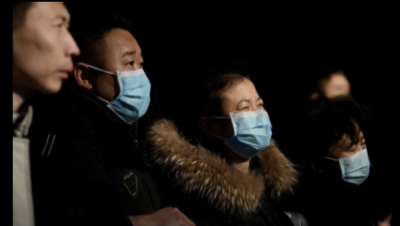with_mask: (91, 48, 151, 121), (224, 94, 272, 149), (332, 140, 369, 183)
without_mask: (18, 13, 80, 91)
